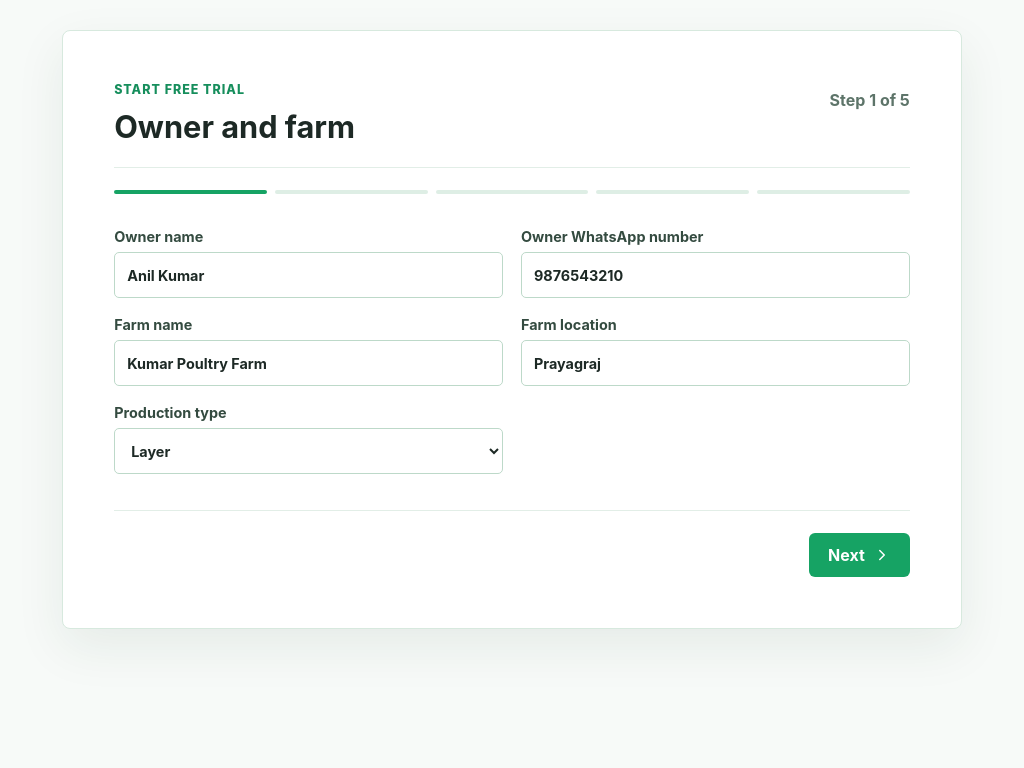
Test case: TrialForm › derives non-editable shed and batch labels from position and start date
The width and height of the screenshot is (1024, 768).
Click the button "Next": (859, 555) [809,533,910,577]
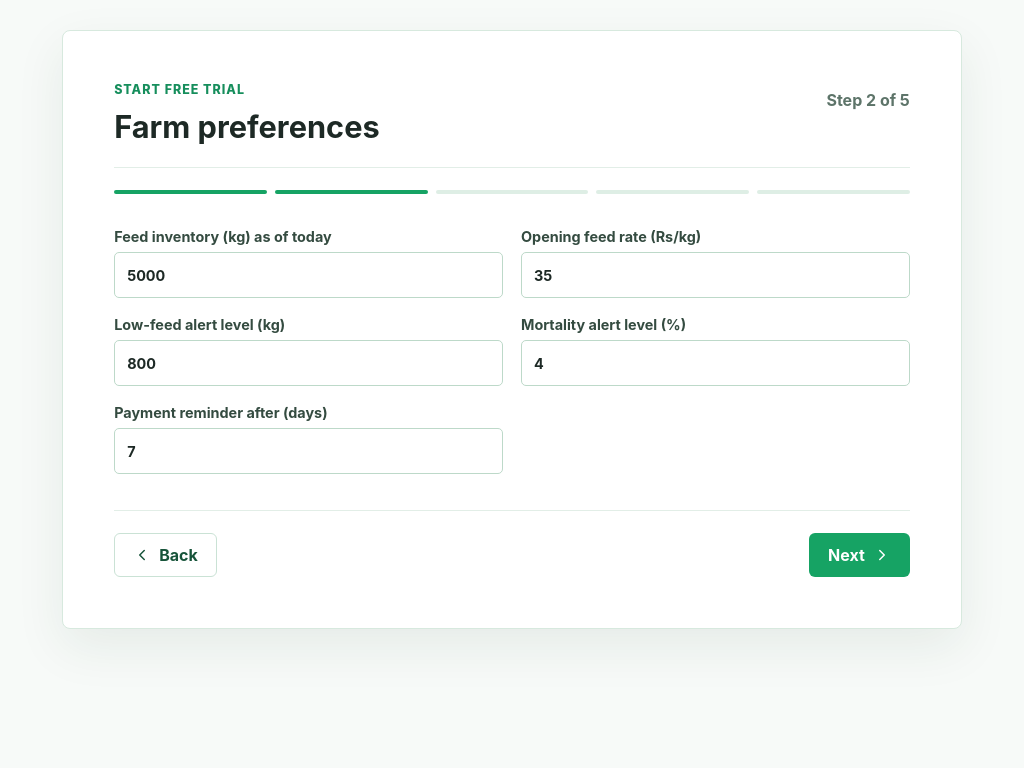
Check: the heading "Farm preferences" is shown, box [114,111,380,143]
Click the button "Next": (859, 555) [809,533,910,577]
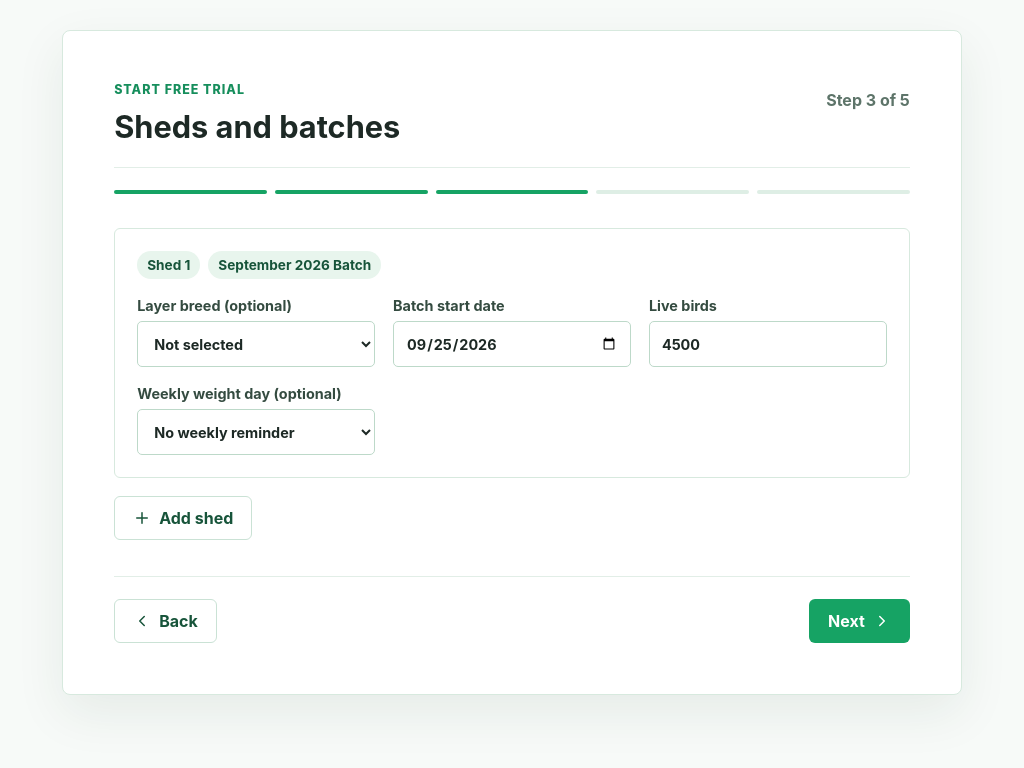
Check: the heading "Sheds and batches" is shown, box [114,111,400,143]
Check: the text "Shed 1" is shown, box [137,251,200,279]
Check: the text "September 2026 Batch" is shown, box [208,251,381,279]
In the date field labelled "Batch start date": (512, 344) [393,321,631,367], type "2026-10-15"
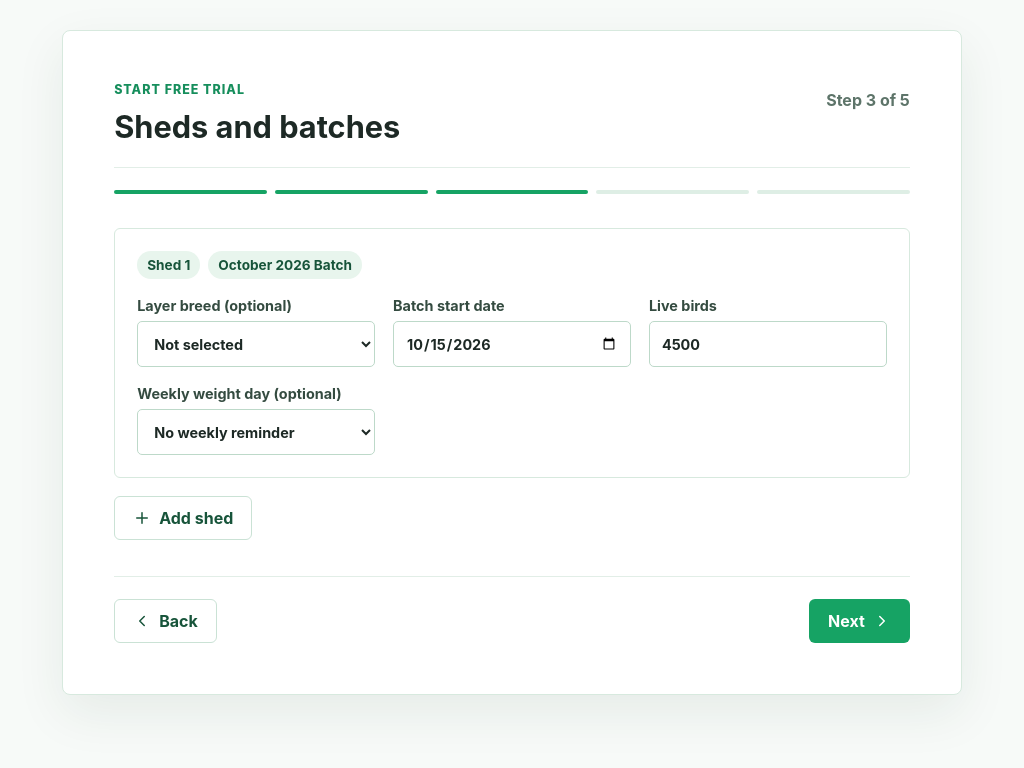
Check: the text "October 2026 Batch" is shown, box [208,251,362,279]
